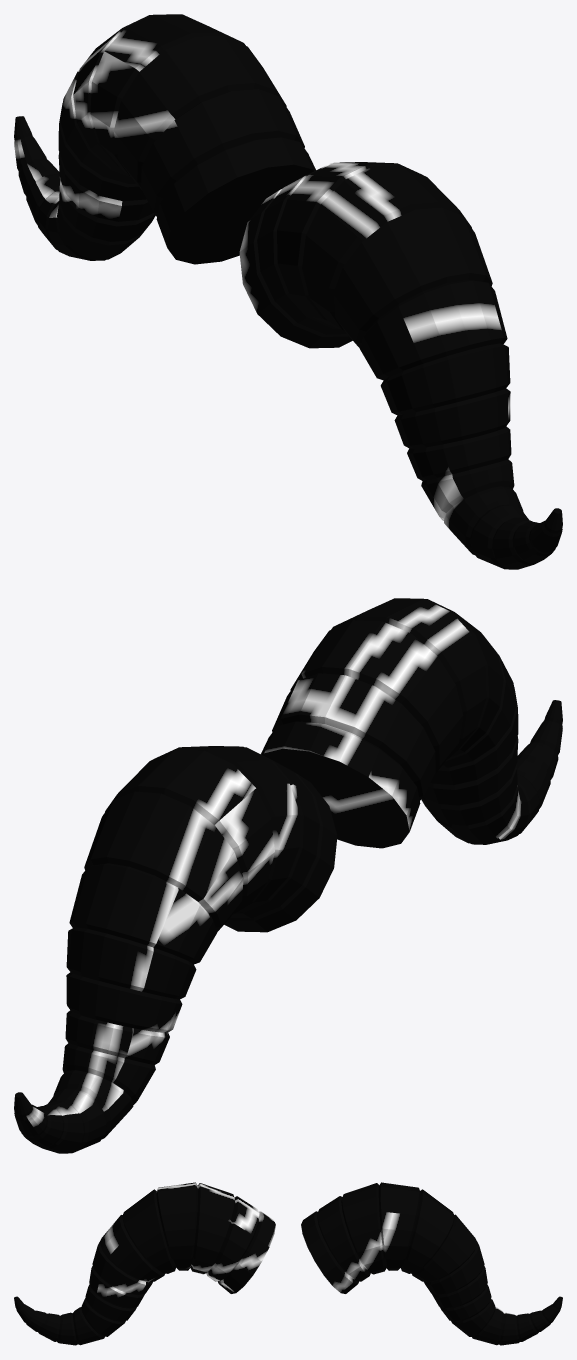
The model's file is horns4.fbx.
3 renders of one model, top to bottom at view 1: azimuth 30°, elevation 25°; view 2: azimuth 150°, elevation 25°; view 3: azimuth 270°, elevation 25°, orthographic. The views are drawn at different scales.
Visible parts, largest first — view 1: Cylinder; view 2: Cylinder; view 3: Cylinder.
Part boxes in pixels (left/top/right/bottom): Cylinder: left=14, top=14, right=562, bottom=569; Cylinder: left=14, top=598, right=562, bottom=1153; Cylinder: left=14, top=1182, right=562, bottom=1345.
Size of the model in its own units: 104 by 201 by 641.
